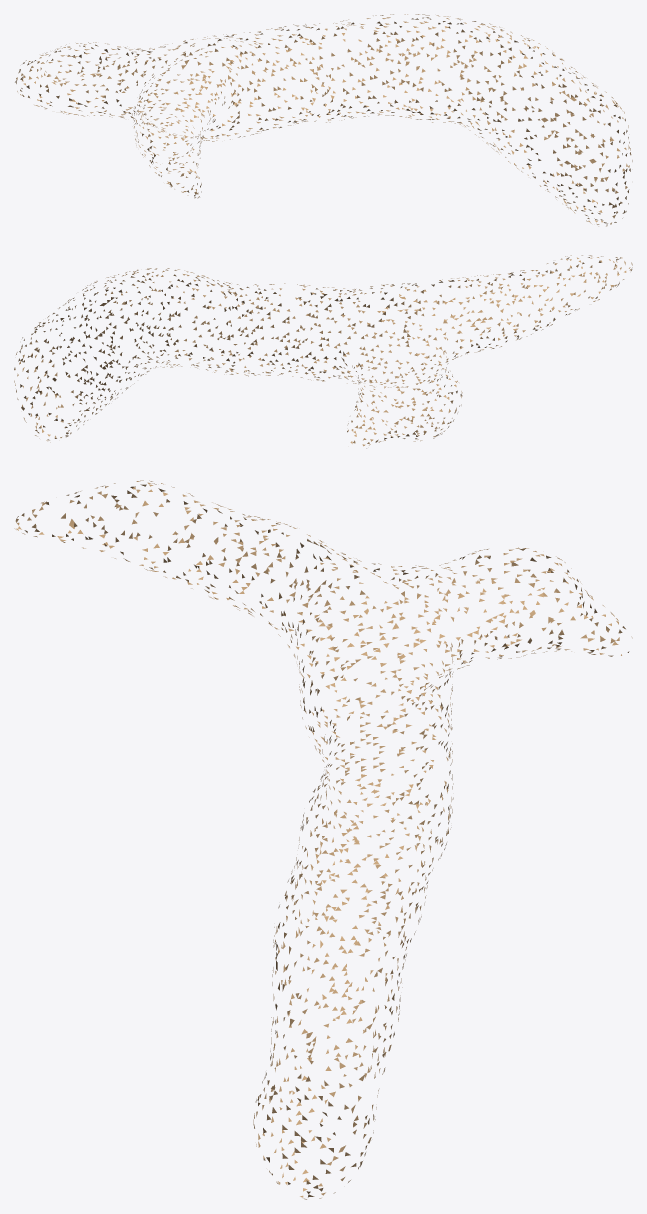
The model's file is morph_006.glb.
3 renders of one model, top to bottom at view 1: azimuth 30°, elevation 25°; view 2: azimuth 150°, elevation 25°; view 3: azimuth 270°, elevation 25°, orthographic. The views are drawn at different scales.
Size of the model in its own units: 101 by 47.64 by 70.85.
